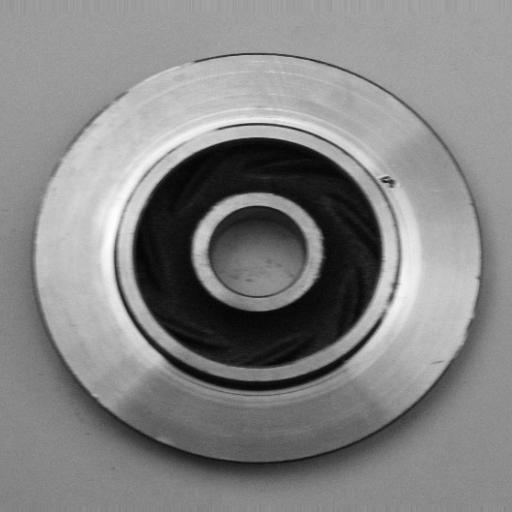crack: (374, 169, 408, 197)
unpolished_casting: (32, 50, 486, 472)
